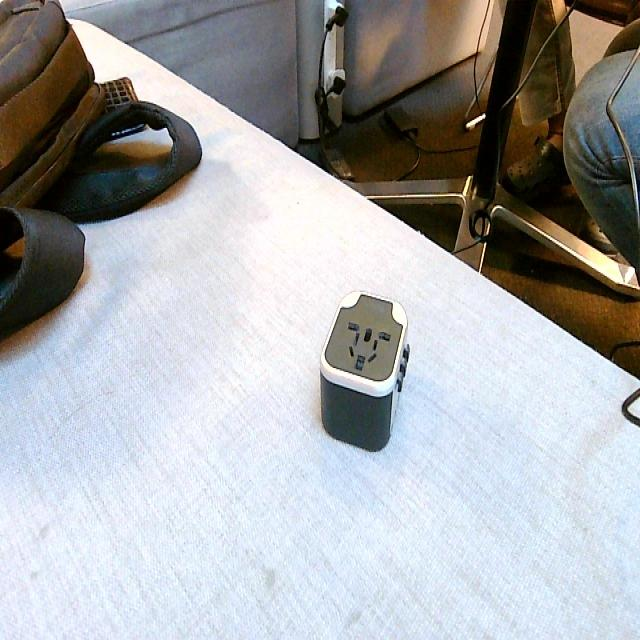adapter: (318, 289, 410, 452)
